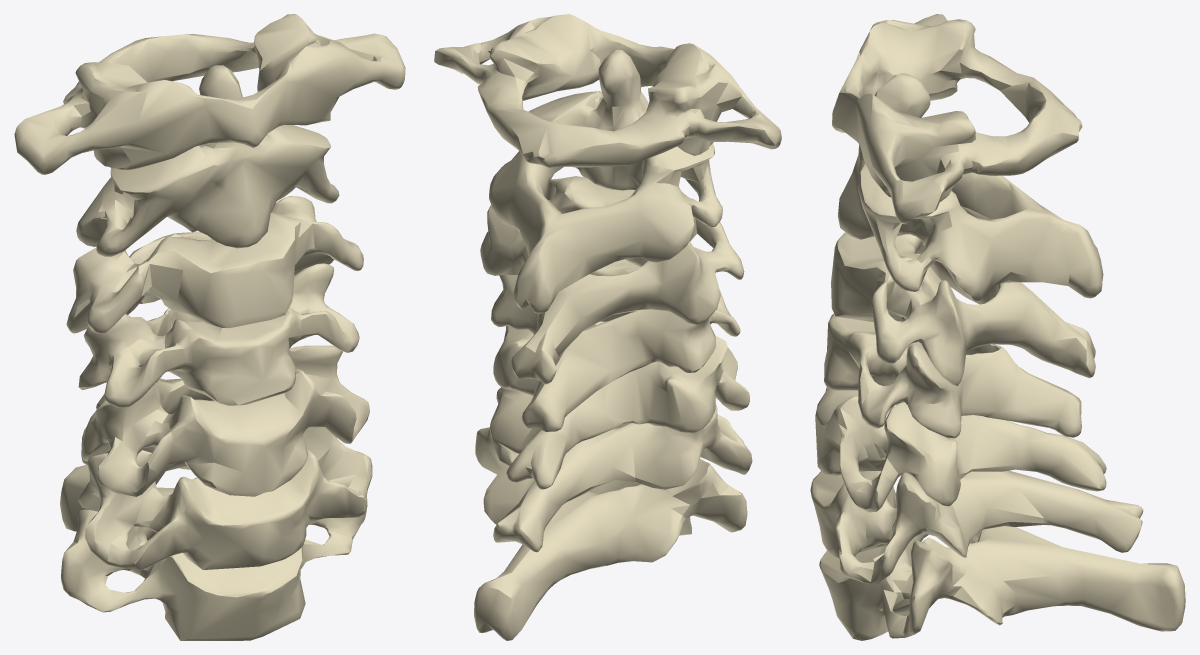
The model's file is cervical_vertebra.glb.
3 renders of one model, left to right at view 1: azimuth 30°, elevation 25°; view 2: azimuth 150°, elevation 25°; view 3: azimuth 270°, elevation 25°, orthographic. The views are drawn at different scales.
Visible parts, largest first — view 1: Cervical Vertebra; view 2: Cervical Vertebra; view 3: Cervical Vertebra.
Part boxes in pixels (x1=…): Cervical Vertebra: x1=14, y1=14, x2=405, y2=640; Cervical Vertebra: x1=434, y1=14, x2=781, y2=640; Cervical Vertebra: x1=810, y1=14, x2=1185, y2=640.
Bounding box in the file's own units: 0.0816 × 0.1167 × 0.0704.
